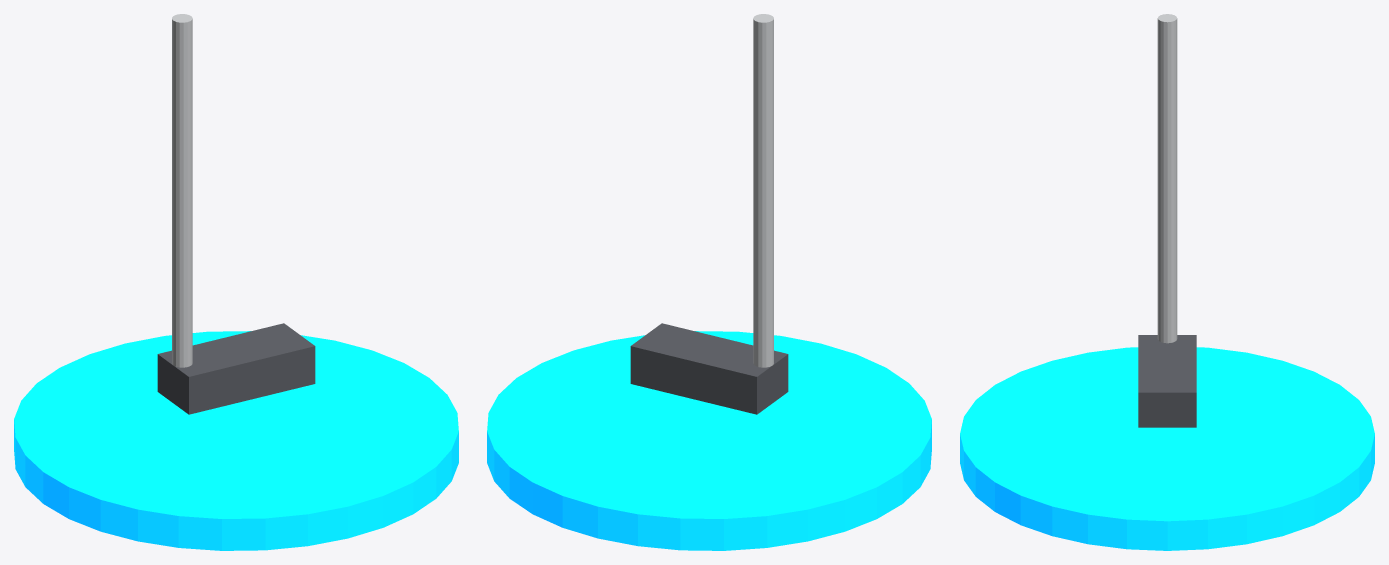
Rendered from sports_golf_club.glb.
The picture shows the model from 3 angles, left to right: view 1: azimuth 30°, elevation 25°; view 2: azimuth 150°, elevation 25°; view 3: azimuth 270°, elevation 25°; orthographic projection. The views are drawn at different scales.
Parts seen in each view (by area): view 1: 04_18_Popular_Sports_Golf_Club_ROOT_base, 04_18_Popular_Sports_Golf_Club_part_02, 04_18_Popular_Sports_Golf_Club_part_01; view 2: 04_18_Popular_Sports_Golf_Club_ROOT_base, 04_18_Popular_Sports_Golf_Club_part_02, 04_18_Popular_Sports_Golf_Club_part_01; view 3: 04_18_Popular_Sports_Golf_Club_ROOT_base, 04_18_Popular_Sports_Golf_Club_part_01, 04_18_Popular_Sports_Golf_Club_part_02.
Boxes of the visible parts, bbox=[...] form: 04_18_Popular_Sports_Golf_Club_ROOT_base: bbox=[14, 331, 458, 550]; 04_18_Popular_Sports_Golf_Club_part_02: bbox=[157, 323, 315, 414]; 04_18_Popular_Sports_Golf_Club_part_01: bbox=[172, 14, 192, 367]; 04_18_Popular_Sports_Golf_Club_ROOT_base: bbox=[487, 331, 931, 550]; 04_18_Popular_Sports_Golf_Club_part_02: bbox=[630, 323, 788, 414]; 04_18_Popular_Sports_Golf_Club_part_01: bbox=[753, 14, 773, 367]; 04_18_Popular_Sports_Golf_Club_ROOT_base: bbox=[960, 347, 1374, 550]; 04_18_Popular_Sports_Golf_Club_part_01: bbox=[1157, 14, 1177, 343]; 04_18_Popular_Sports_Golf_Club_part_02: bbox=[1138, 335, 1196, 427].
Size of the model in its own units: 0.76 by 0.85 by 0.76.
